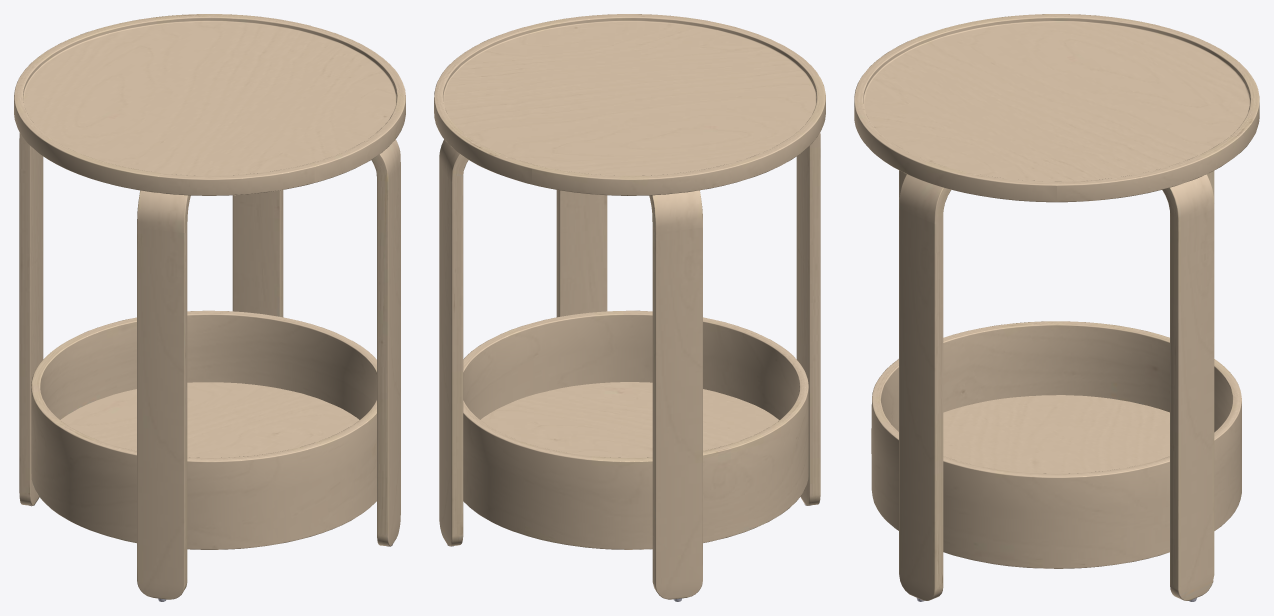
The model's file is LB-SIDETABLE-02.glb.
3 views of the same model, side by side, from view 1: azimuth 30°, elevation 25°; view 2: azimuth 150°, elevation 25°; view 3: azimuth 270°, elevation 25° (orthographic). The views are drawn at different scales.
Parts seen in each view (by area): view 1: ASY_ART_80619880_S01_NV01; view 2: ASY_ART_80619880_S01_NV01; view 3: ASY_ART_80619880_S01_NV01.
Boxes of the visible parts, box(x1,y1,x2,y2) form: ASY_ART_80619880_S01_NV01: box(14, 14, 405, 601); ASY_ART_80619880_S01_NV01: box(434, 14, 825, 601); ASY_ART_80619880_S01_NV01: box(854, 14, 1259, 601).
Bounding box in the file's own units: 0.4601 × 0.555 × 0.4598.
Materials: 1 (1 with a texture image).
